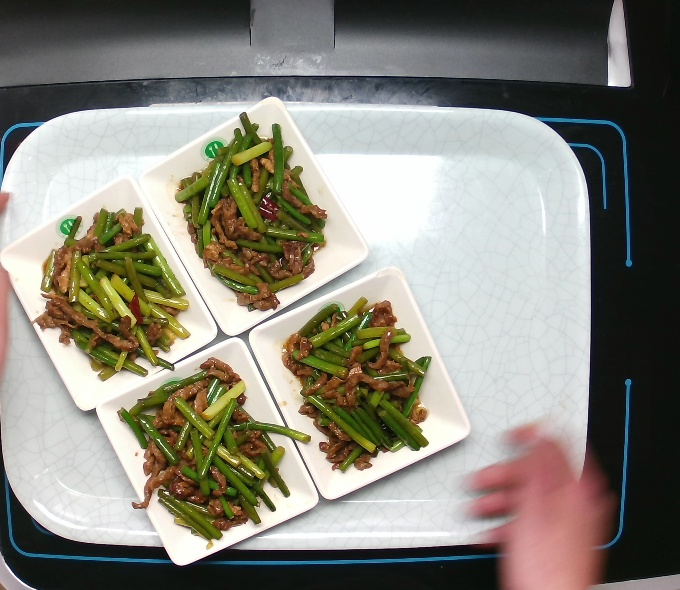wcq-SuanMiaoNiuRou: (109, 352, 318, 550), (168, 99, 338, 325), (266, 288, 444, 484), (30, 194, 197, 391)
